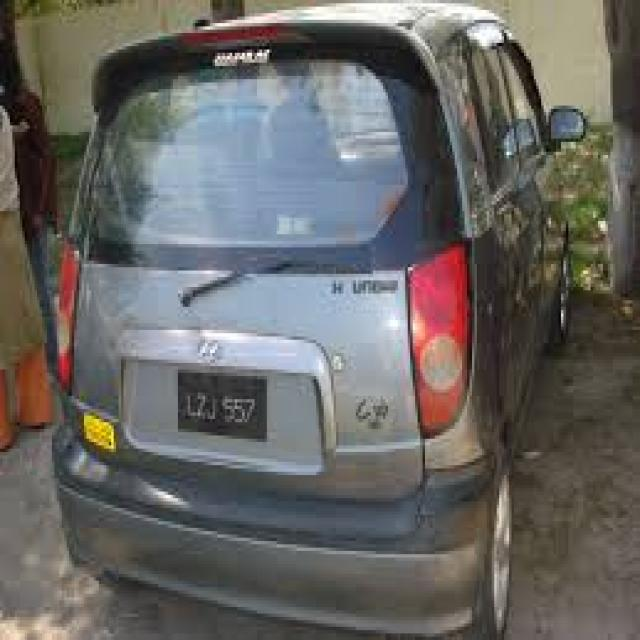Number-Plate: (180, 371, 269, 445)
